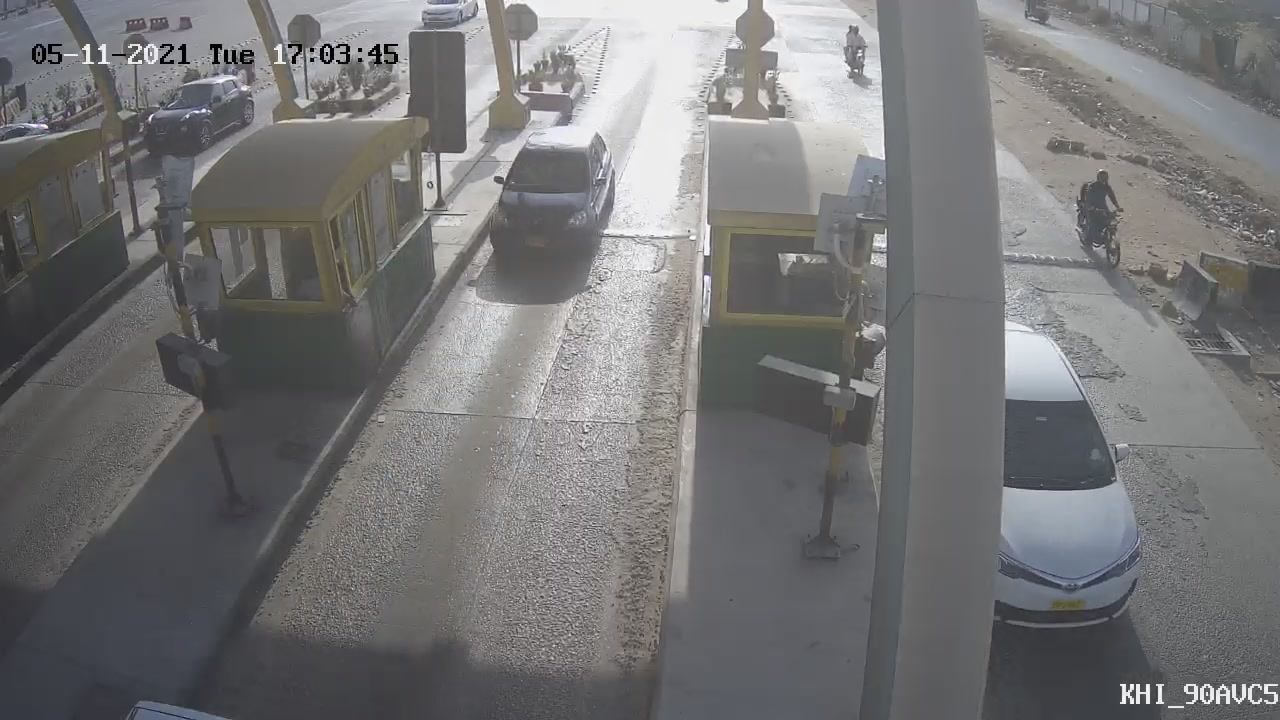F1: (464, 109, 643, 288)
